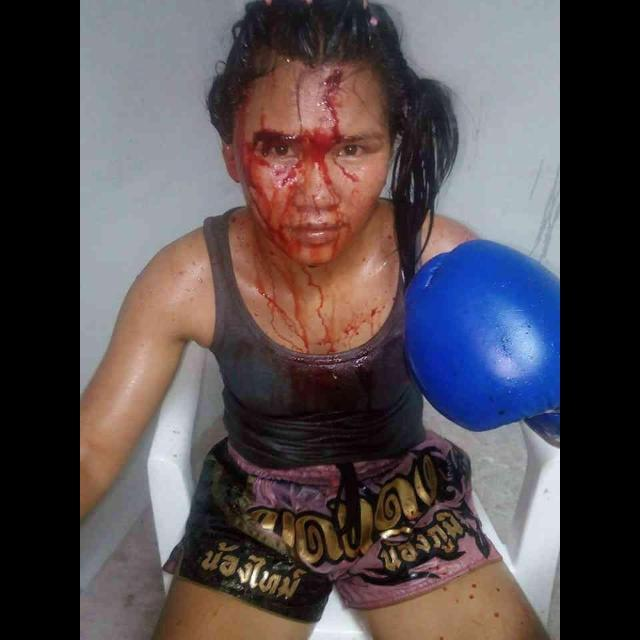blood: (223, 66, 379, 353)
